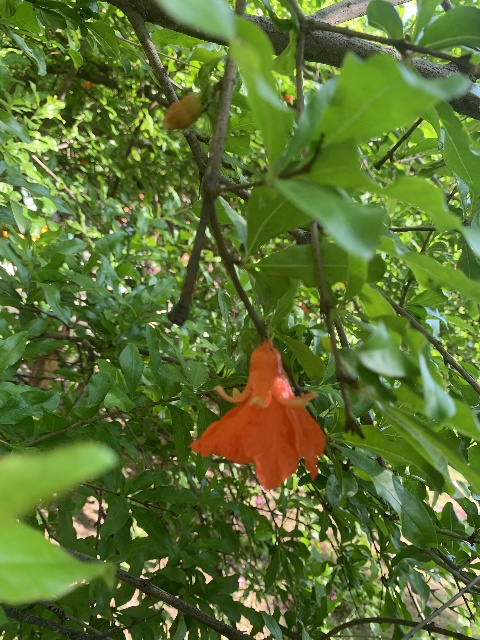bud: (164, 94, 203, 130)
flower: (191, 341, 326, 490)
